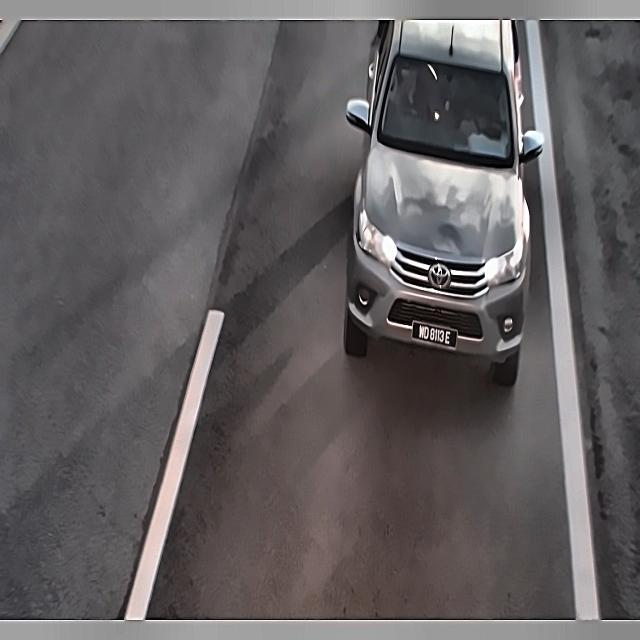car: (410, 312, 458, 355)
